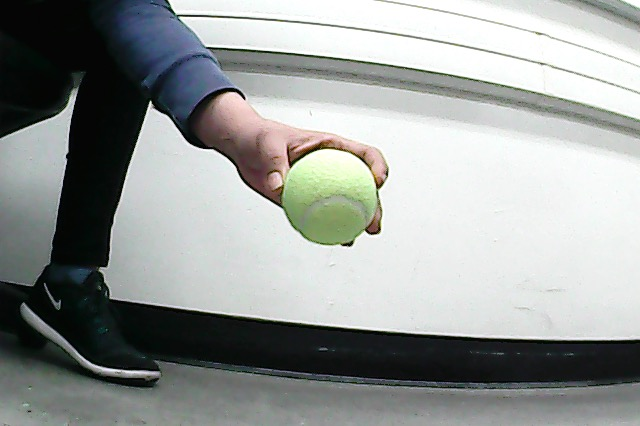ball: (277, 146, 381, 250)
